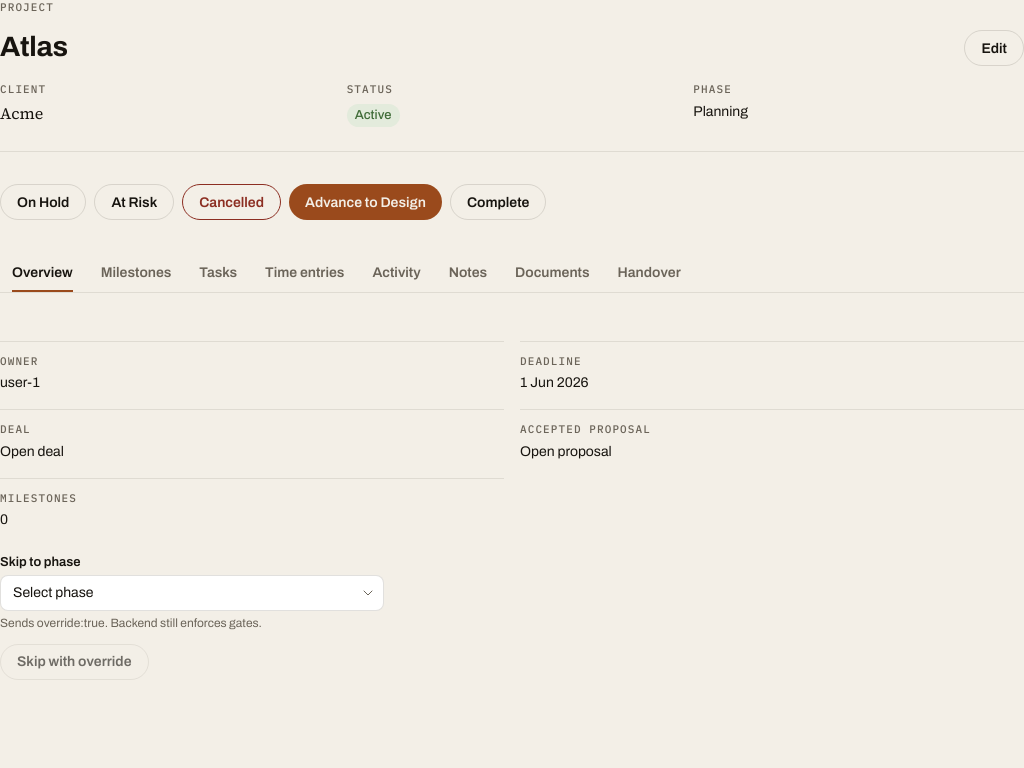
Project detail › blocks complete until the backend accepts the checklist
Click the button "Complete". click: click(498, 202)
box: [450, 184, 546, 220]
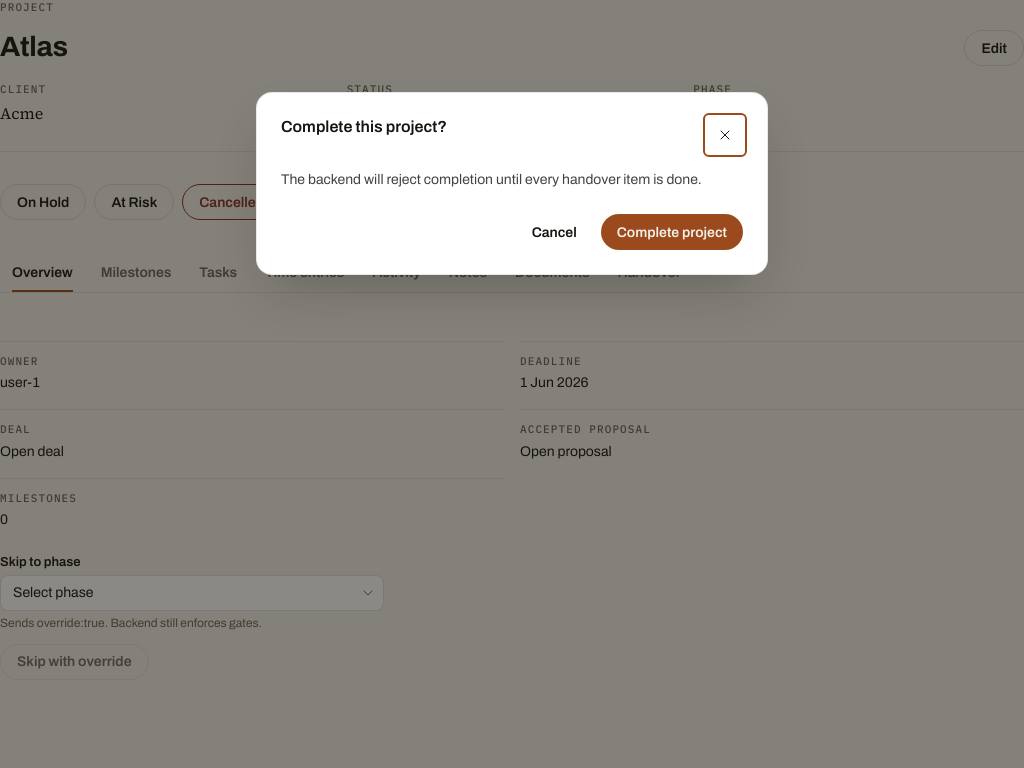
Click the button "Complete project". click: click(672, 232)
box: [601, 214, 743, 250]
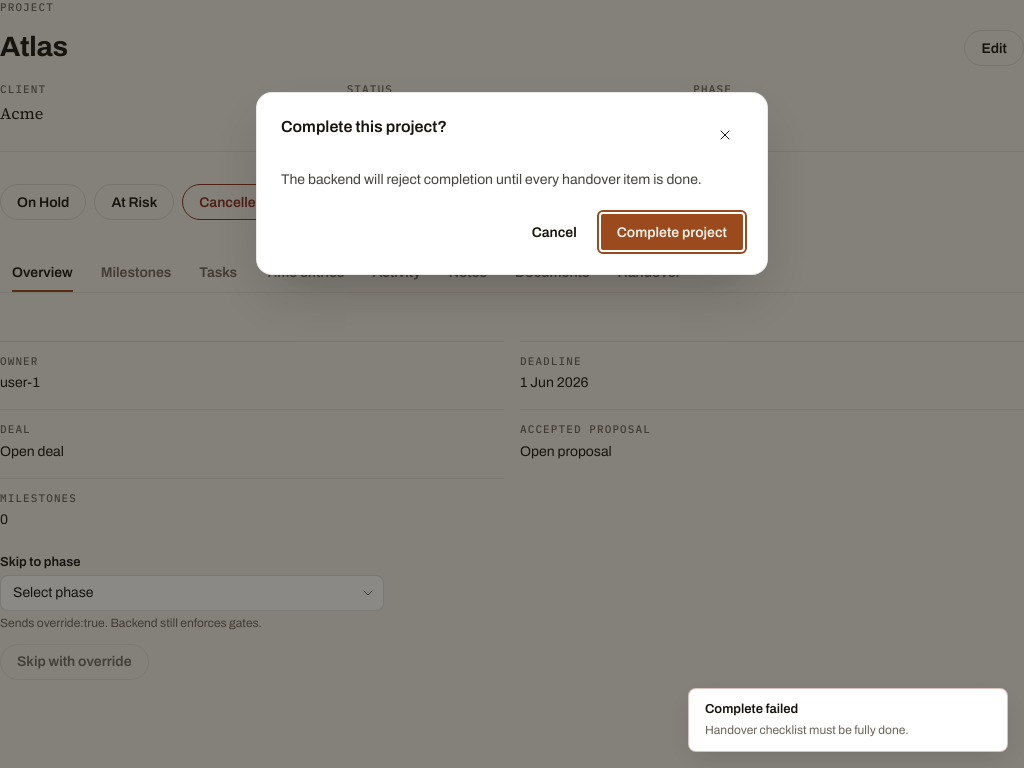
Now the text "Handover checklist must be fully done." is shown, box [705, 723, 909, 737]
